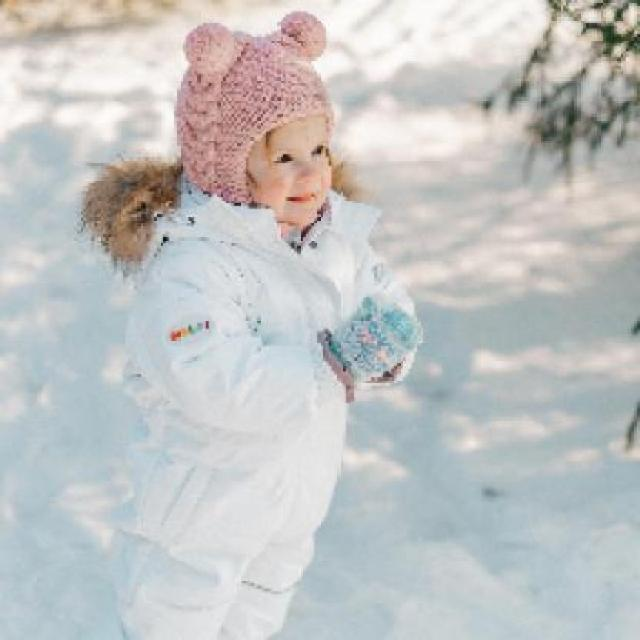child: (83, 8, 423, 638)
